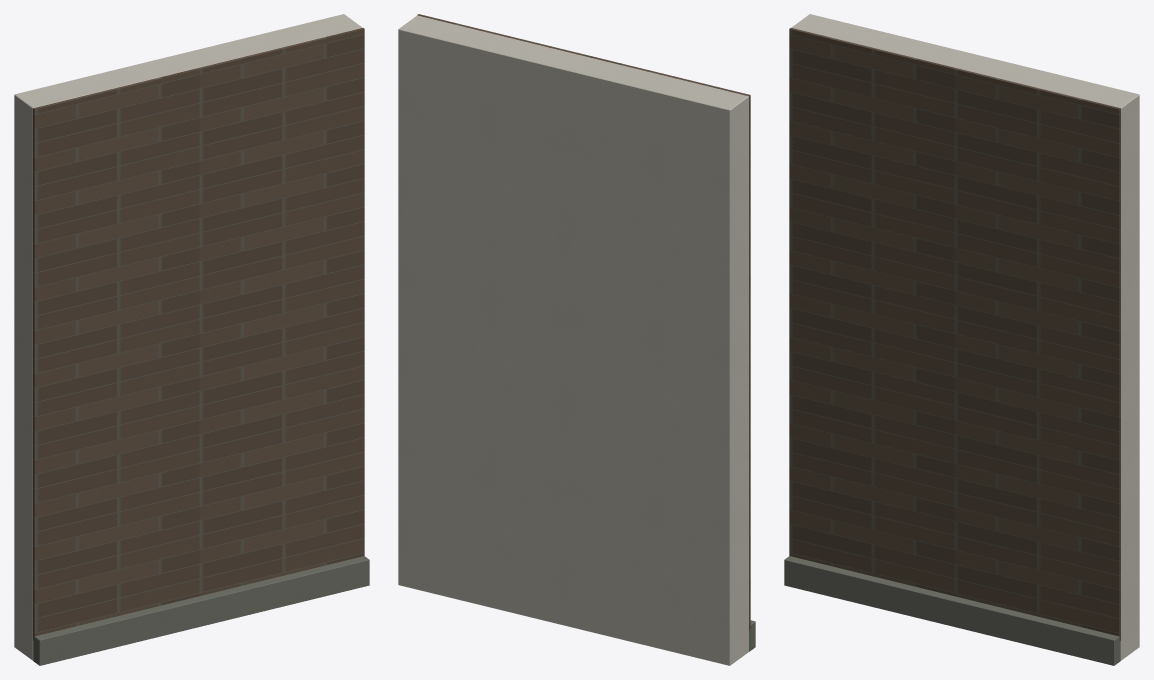
The model's file is masonry_wall_2m.glb.
3 views of the same model, side by side, from view 1: azimuth 30°, elevation 25°; view 2: azimuth 150°, elevation 25°; view 3: azimuth 330°, elevation 25° (orthographic).
Parts seen in each view (by area): view 1: masonry_wall_2m; view 2: masonry_wall_2m; view 3: masonry_wall_2m.
Part boxes in pixels (x1,y1,x2,y2): masonry_wall_2m: [14, 14, 369, 665]; masonry_wall_2m: [398, 14, 755, 665]; masonry_wall_2m: [784, 14, 1139, 665].
Size of the model in its own units: 2 by 3.2 by 0.27.
4 materials, 4 textured.
